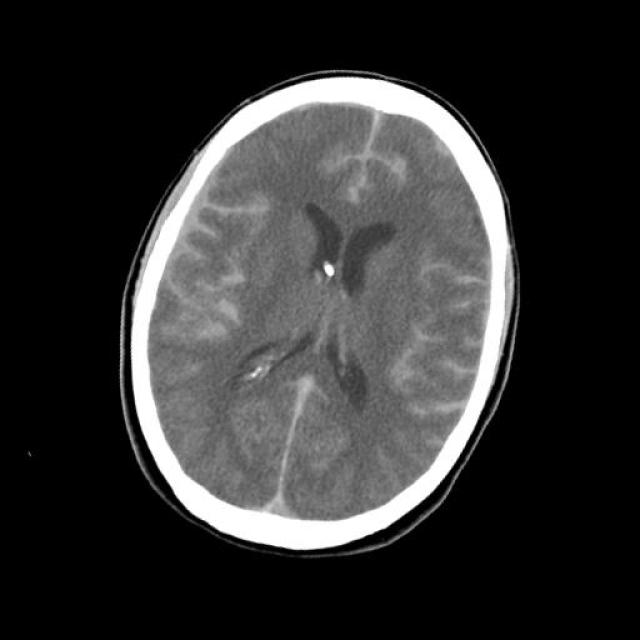Subarachnoid: (362, 232, 547, 482), (148, 158, 298, 411), (364, 232, 521, 470), (308, 84, 428, 220)
Subdural: (135, 136, 235, 336), (232, 366, 348, 534)
